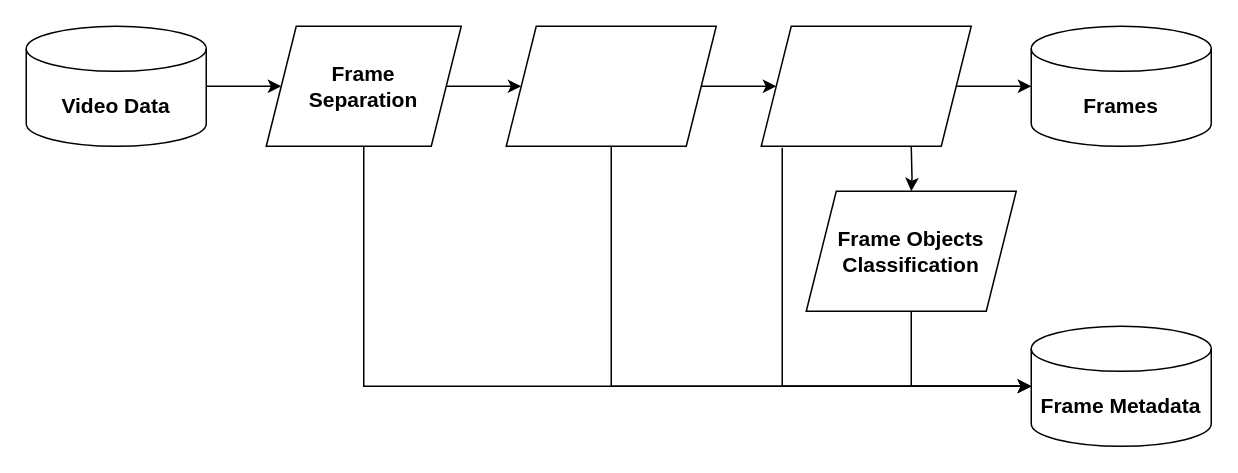
Image size: 1238x473. Some labels were removed from this diagram. Here are the shapes that lost their labels. From the top down, the centre of each, then its label:
(610,85): Noisy Frame Removal
(865,85): Duplicate Frame Removal
